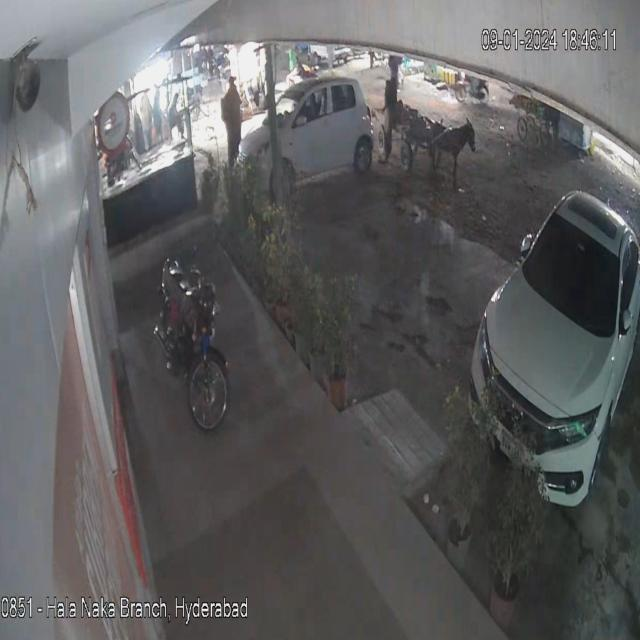Car: (468, 172, 640, 525), (238, 78, 392, 200)
